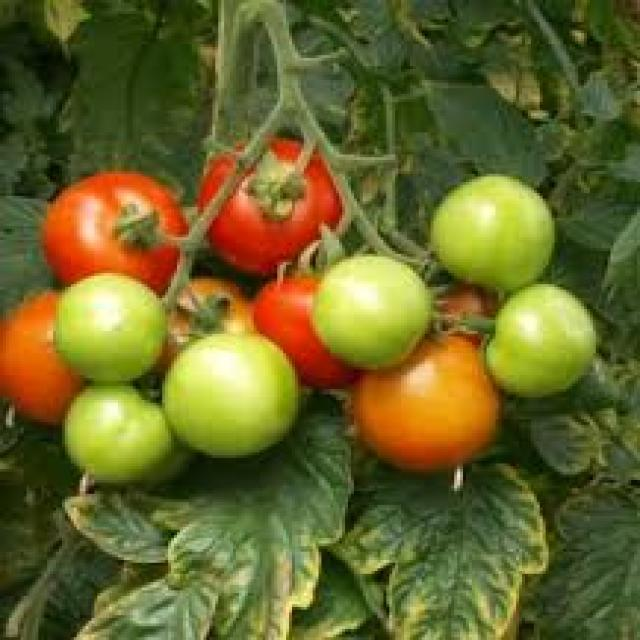organic waste: (195, 130, 339, 270), (351, 337, 495, 469), (301, 216, 425, 362), (38, 166, 183, 290), (159, 323, 292, 452), (424, 171, 552, 290), (59, 380, 189, 486), (478, 278, 593, 394), (0, 284, 88, 427), (251, 265, 357, 383), (50, 271, 159, 384), (153, 270, 245, 370), (424, 276, 496, 334)
